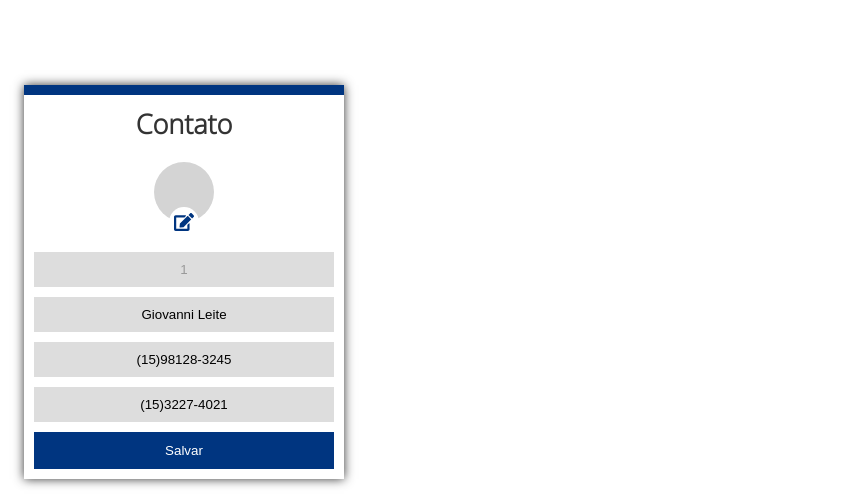
it: <Contact /> › should update a contact
Replace the text in the field with placeholder "Ex. João Oliveira" with "Osvaldo Moraes": (184, 314) [34,297,334,332]
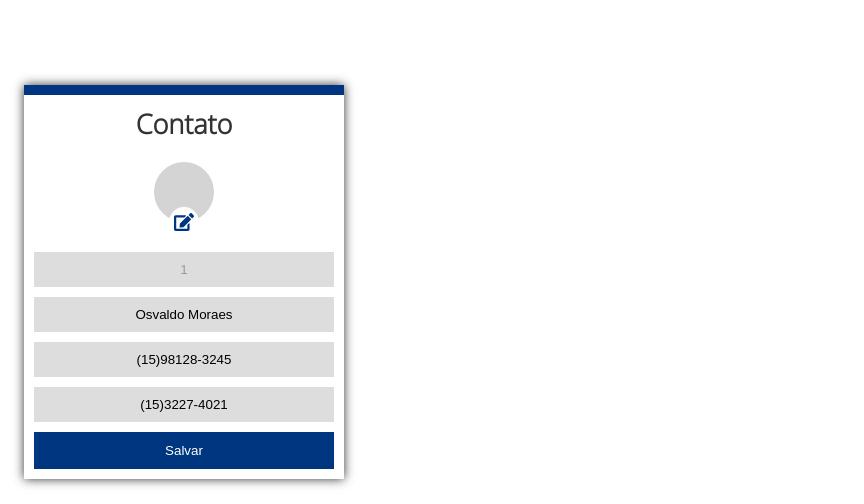
Replace the text in the field with placeholder "Ex. (15)98128-2325" with "(15)98128-2322": (184, 360) [34,342,334,377]
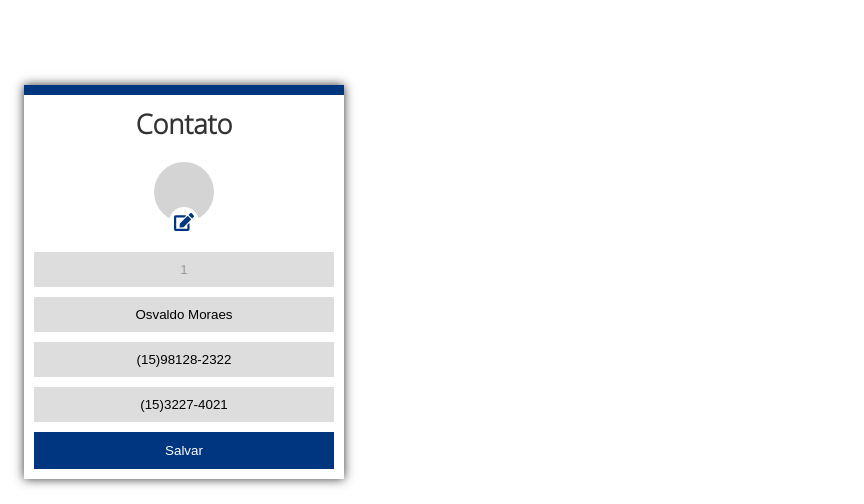
Click the button "Salvar": (184, 450) [34,432,334,469]
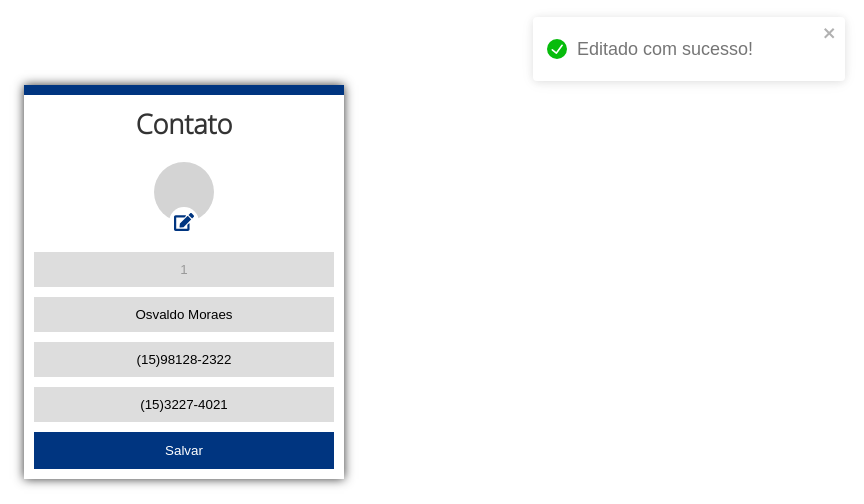
Expected: the text "Editado com sucesso!" is shown, [577,38,753,58]
